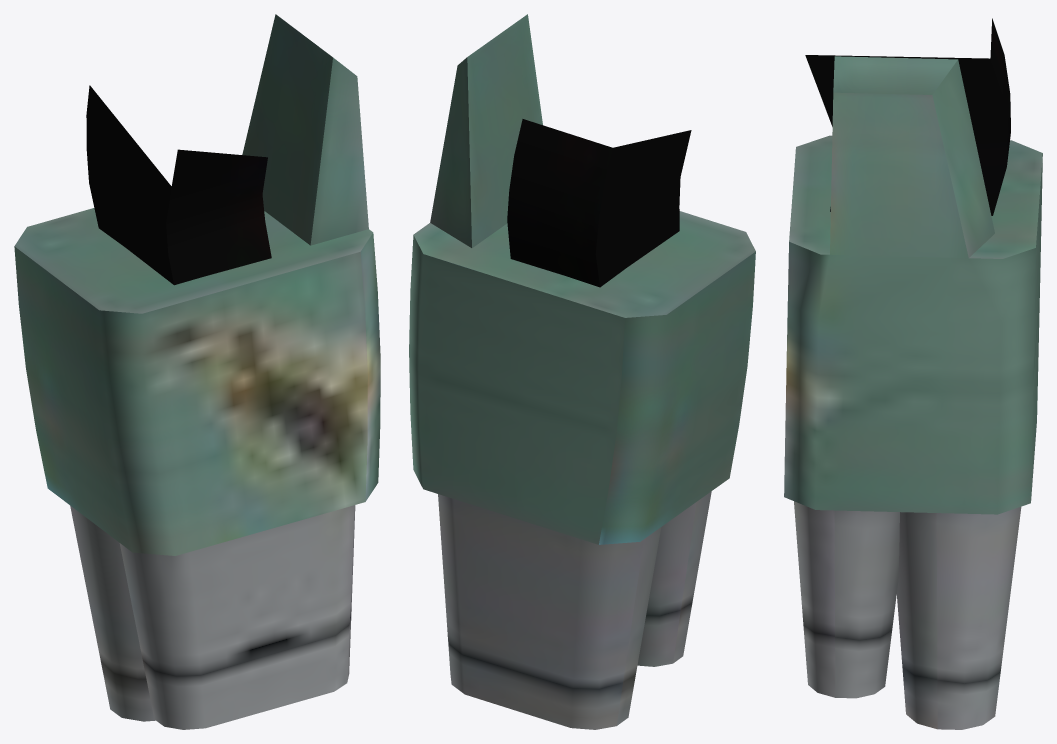
The model's file is j3ff_forearm_l.glb.
The picture shows the model from 3 angles, left to right: view 1: azimuth 30°, elevation 25°; view 2: azimuth 150°, elevation 25°; view 3: azimuth 270°, elevation 25°; orthographic projection. The views are drawn at different scales.
Visible parts, largest first — view 1: j3ff; view 2: j3ff; view 3: j3ff.
Boxes of the visible parts, left/top/right/bottom form: j3ff: left=14, top=14, right=380, bottom=729; j3ff: left=409, top=14, right=755, bottom=729; j3ff: left=784, top=18, right=1042, bottom=729.
Size of the model in its own units: 9.21 by 20.77 by 7.22.
1 material, 1 textured.
